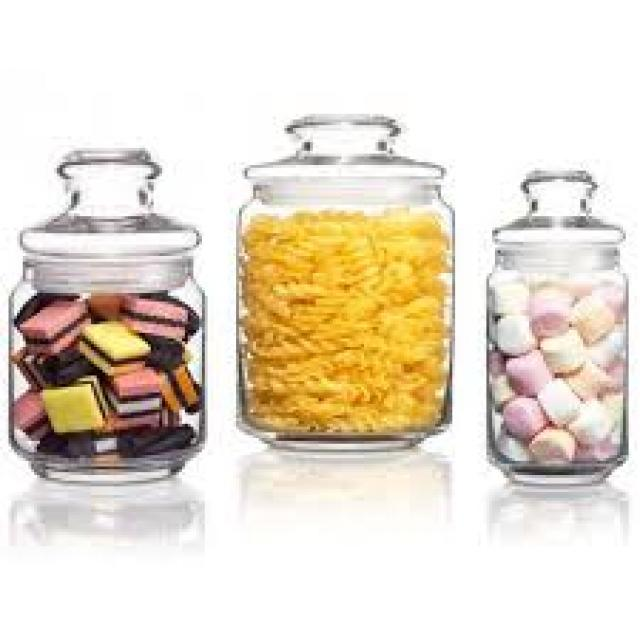organic waste: (239, 205, 444, 432), (489, 270, 623, 464), (37, 376, 114, 426), (77, 316, 148, 370), (20, 296, 88, 344), (12, 341, 82, 387), (97, 372, 159, 423), (120, 296, 182, 341), (116, 421, 194, 449), (14, 384, 54, 435), (31, 424, 94, 455), (160, 361, 193, 410), (148, 336, 185, 364)
